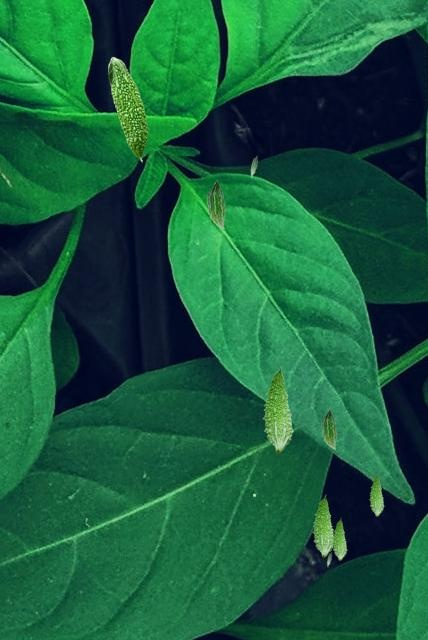ampalaya: (107, 56, 149, 162), (262, 366, 294, 453), (312, 494, 333, 558), (206, 179, 226, 229), (320, 408, 337, 450), (331, 517, 347, 561), (368, 473, 384, 517), (250, 155, 258, 178), (107, 59, 114, 85), (326, 551, 332, 567)
